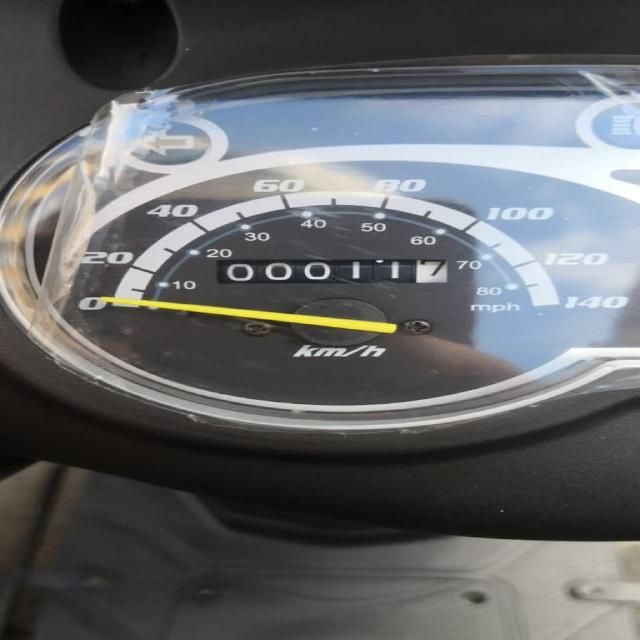odometer: (212, 258, 448, 284)
